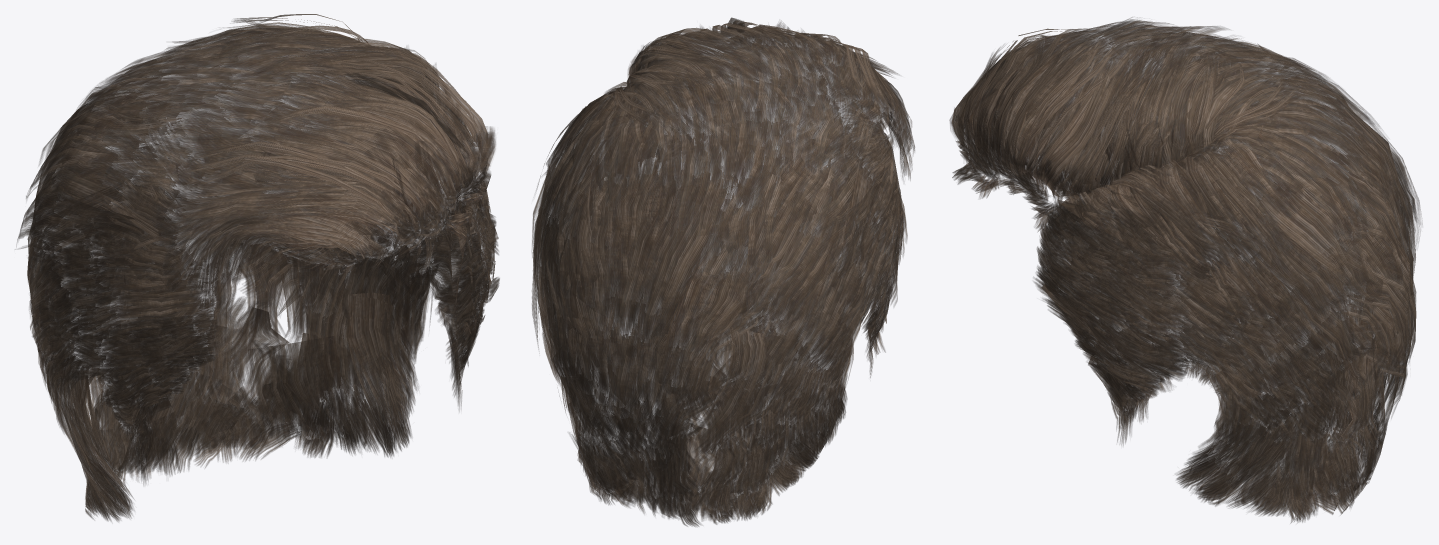
File: short_hair_1_martin_-_character_hair_free.glb
3 renders of one model, left to right at view 1: azimuth 30°, elevation 25°; view 2: azimuth 150°, elevation 25°; view 3: azimuth 270°, elevation 25°, orthographic. The views are drawn at different scales.
Visible parts, largest first — view 1: Martin Hair; view 2: Martin Hair; view 3: Martin Hair.
Part boxes in pixels (bbox=[...]): Martin Hair: bbox=[15, 14, 499, 521]; Martin Hair: bbox=[532, 17, 914, 526]; Martin Hair: bbox=[949, 17, 1422, 523].
Size of the model in its own units: 0.2273 by 0.2731 by 0.2594.
Materials: 1 (1 with a texture image).
